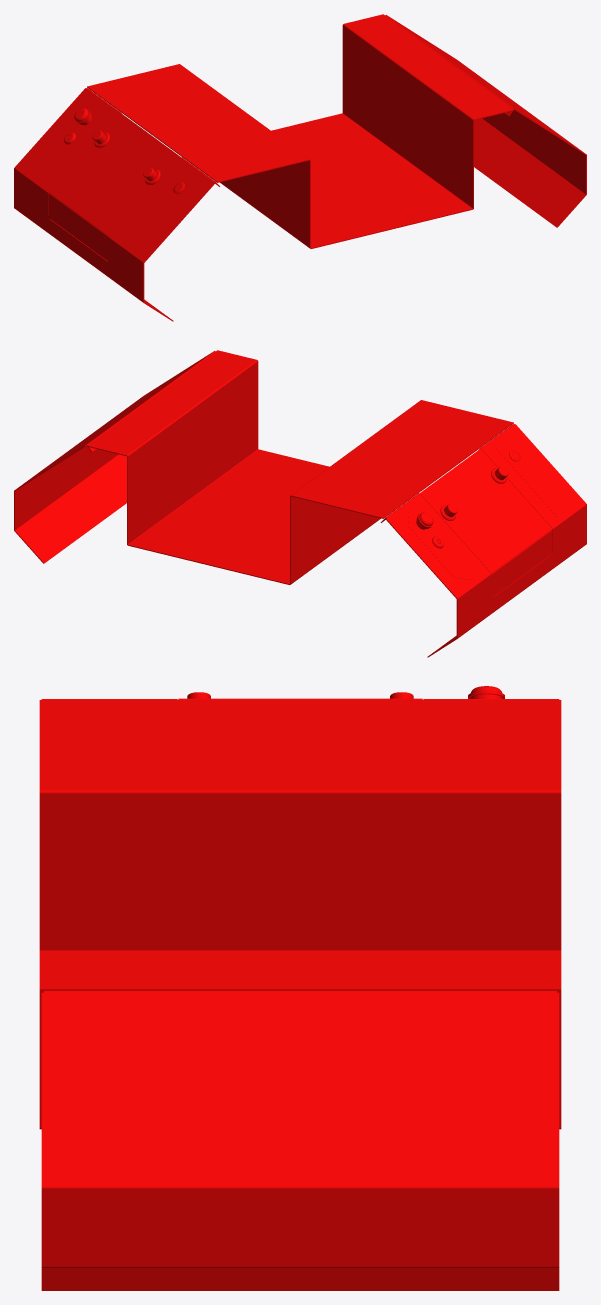
Rendered from top_chassis_red.dae.
The picture shows the model from 3 angles, top to bottom: view 1: azimuth 30°, elevation 25°; view 2: azimuth 150°, elevation 25°; view 3: azimuth 270°, elevation 25°; orthographic projection. The views are drawn at different scales.
Parts seen in each view (by area): view 1: Top_Chassis; view 2: Top_Chassis; view 3: Top_Chassis.
Boxes of the visible parts, left/top/right/bottom form: Top_Chassis: left=14, top=14, right=586, bottom=321; Top_Chassis: left=14, top=350, right=586, bottom=657; Top_Chassis: left=39, top=686, right=561, bottom=1290.
Size of the model in its own units: 0.812 by 0.4137 by 0.2264.
